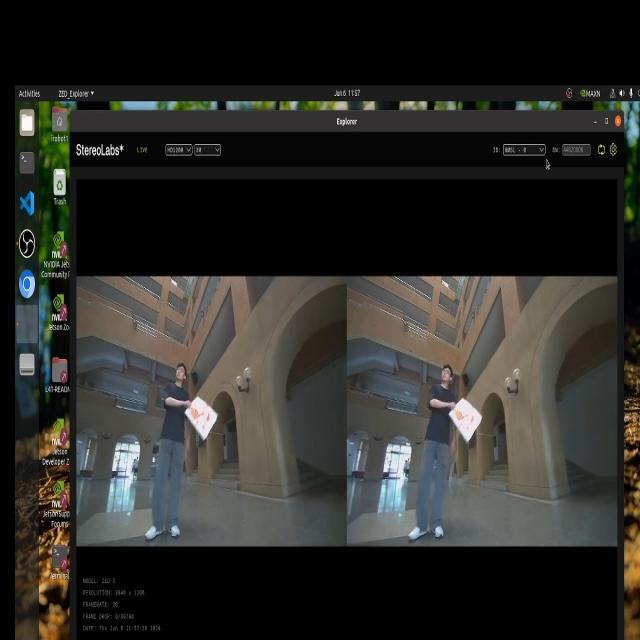red: (186, 399, 222, 439), (451, 403, 475, 438)
